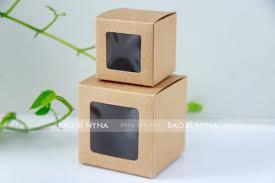box: (78, 65, 188, 179), (96, 7, 177, 88)
